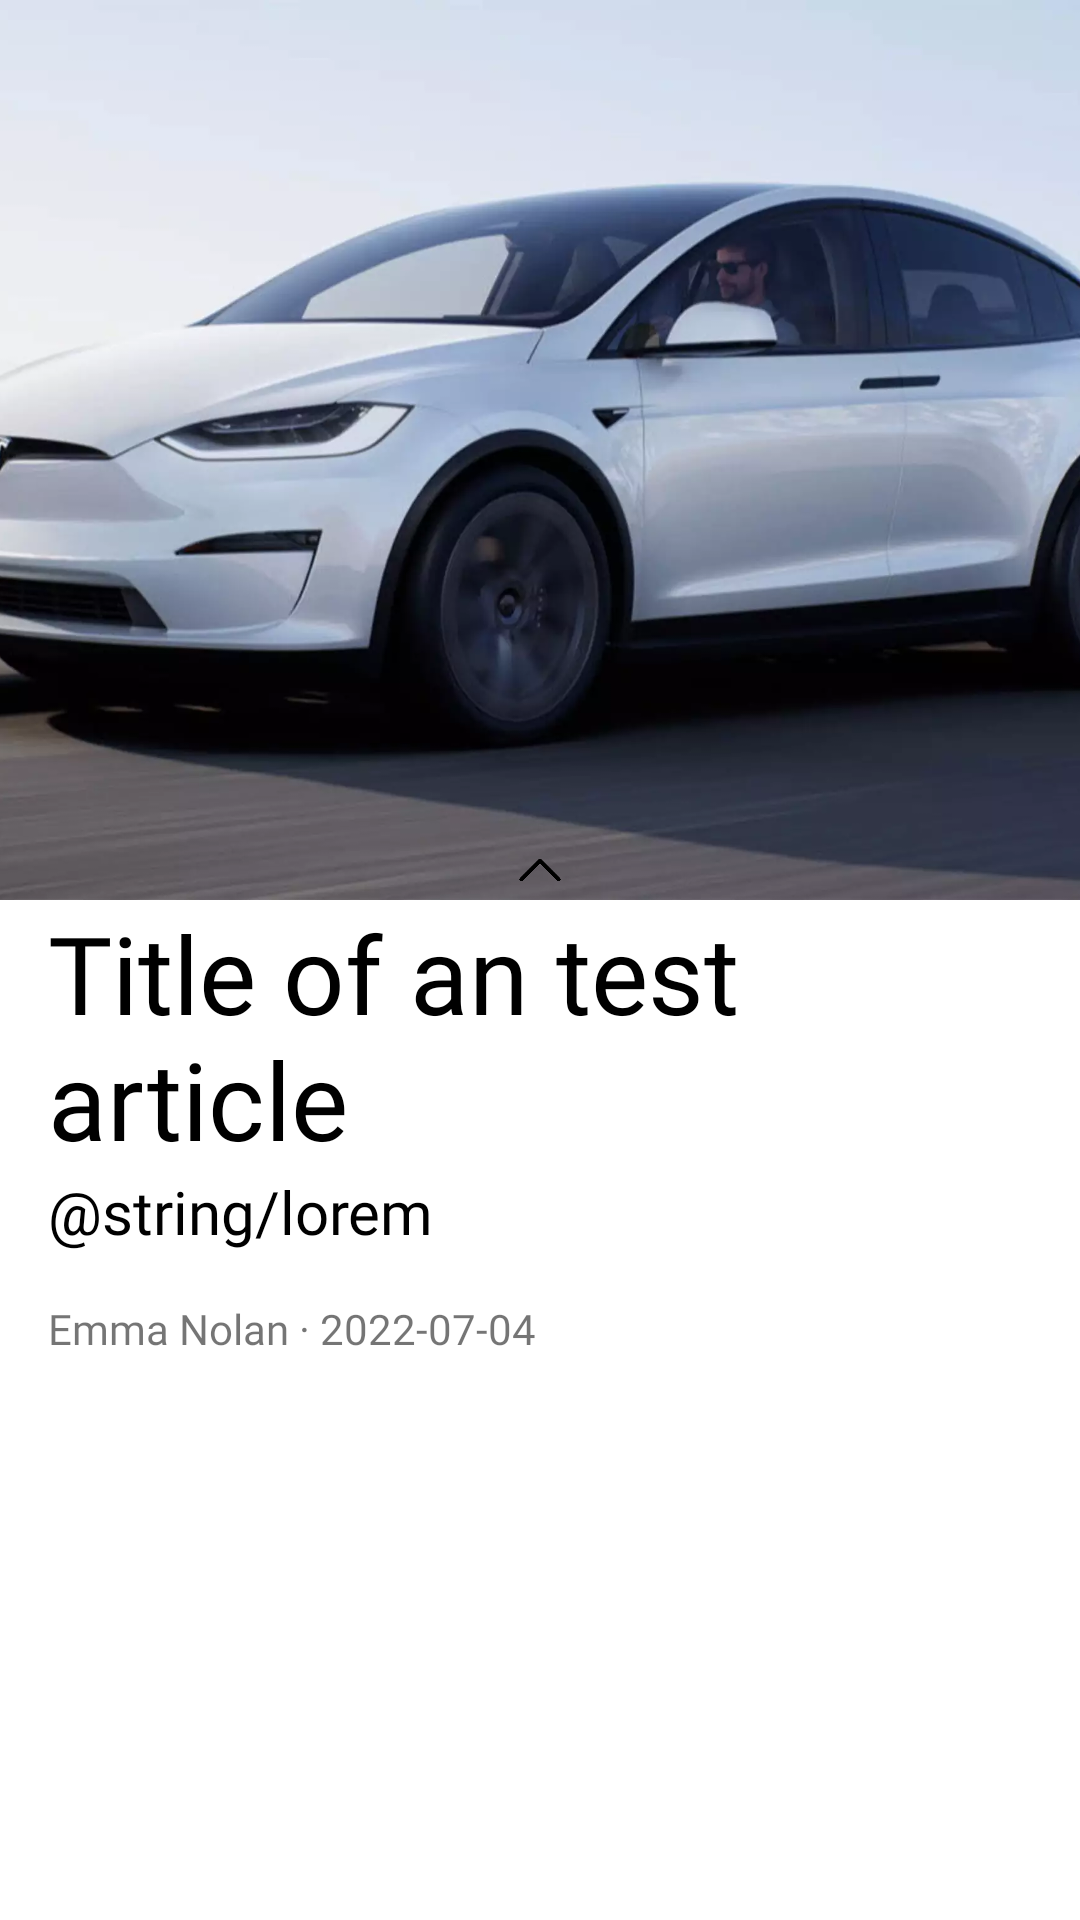

Where to tap for icons on this 1080px x 1920px app screen, as (x=x, y=y):
arrow up: (x=540, y=870)
